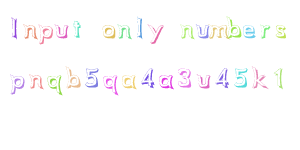1: (272, 67, 287, 89)
3: (176, 65, 192, 88)
4: (214, 66, 231, 89), (140, 66, 155, 89)
5: (233, 66, 249, 89), (85, 66, 99, 89)
I: (8, 15, 27, 41)
a: (157, 73, 175, 89), (122, 74, 137, 89)
b: (226, 12, 242, 39), (65, 65, 81, 89)
e: (242, 23, 257, 40)
k: (251, 65, 269, 90)
l: (133, 14, 145, 39)
m: (208, 21, 229, 40)
n: (178, 21, 194, 41), (22, 22, 38, 40), (116, 22, 132, 40), (29, 72, 44, 89)
o: (101, 23, 117, 40)
p: (38, 22, 53, 46), (10, 74, 25, 96)
q: (102, 73, 118, 97), (46, 75, 64, 96)
r: (257, 24, 271, 40)
s: (274, 23, 288, 40)
t: (70, 18, 84, 41)
u: (54, 23, 70, 40), (196, 21, 210, 39), (196, 73, 211, 89)
y: (146, 21, 164, 45)
